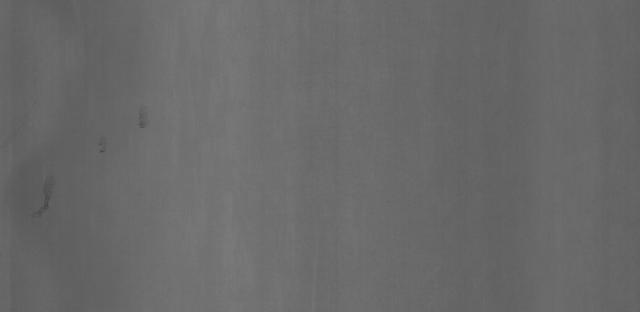water_spot: (28, 176, 63, 227), (133, 102, 164, 135), (88, 131, 115, 166)
